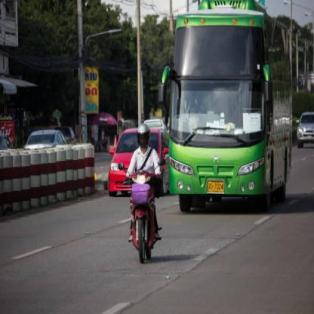Motocicleta: (116, 165, 159, 262)
